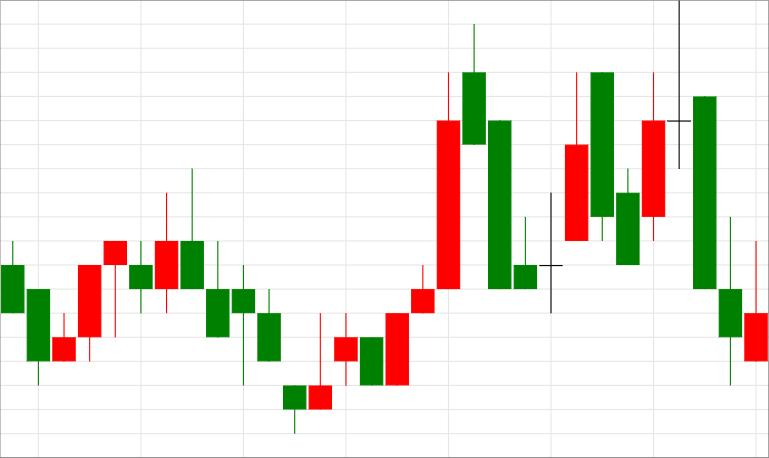inverse_hammer_rise: (181, 168, 332, 436)
three_white_soldiers_rise: (1, 241, 126, 386)
